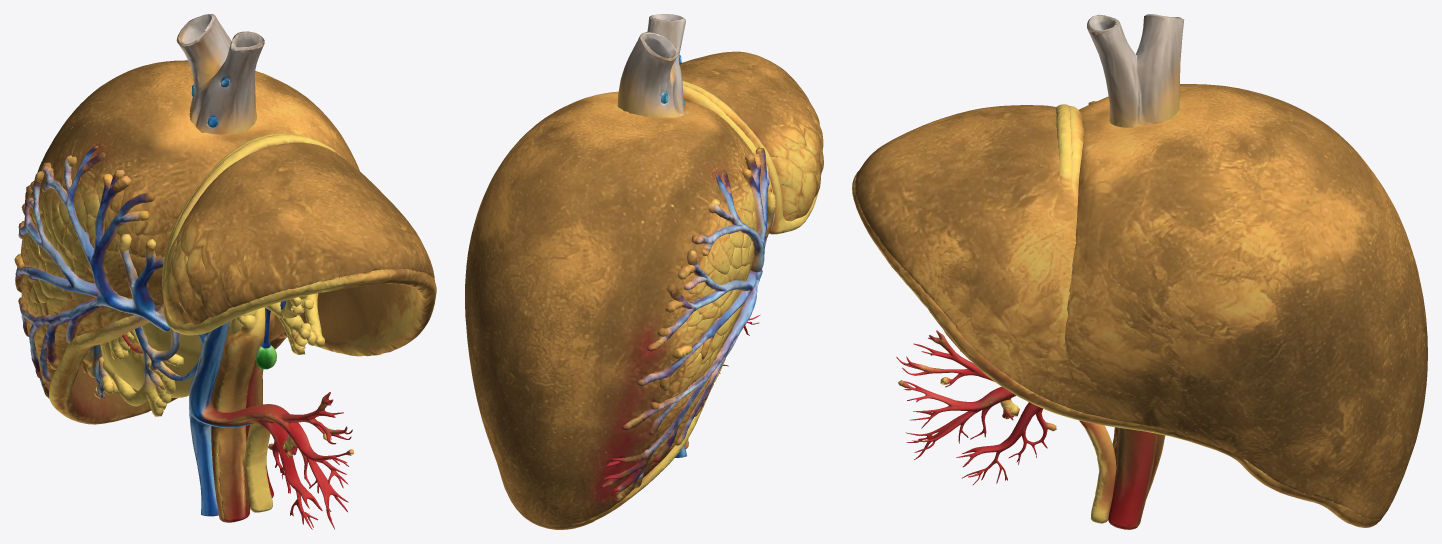
File: liver-fatty.glb
3 renders of one model, left to right at view 1: azimuth 30°, elevation 25°; view 2: azimuth 150°, elevation 25°; view 3: azimuth 270°, elevation 25°, orthographic. The views are drawn at different scales.
Parts seen in each view (by area): view 1: model; view 2: model; view 3: model.
Boxes of the visible parts, x1,y1,x2,y2 form: model: [14, 14, 436, 529]; model: [465, 14, 823, 529]; model: [852, 14, 1427, 529].
Bounding box in the file's own units: 1.11 × 1.86 × 1.93.
1 material, 1 textured.
